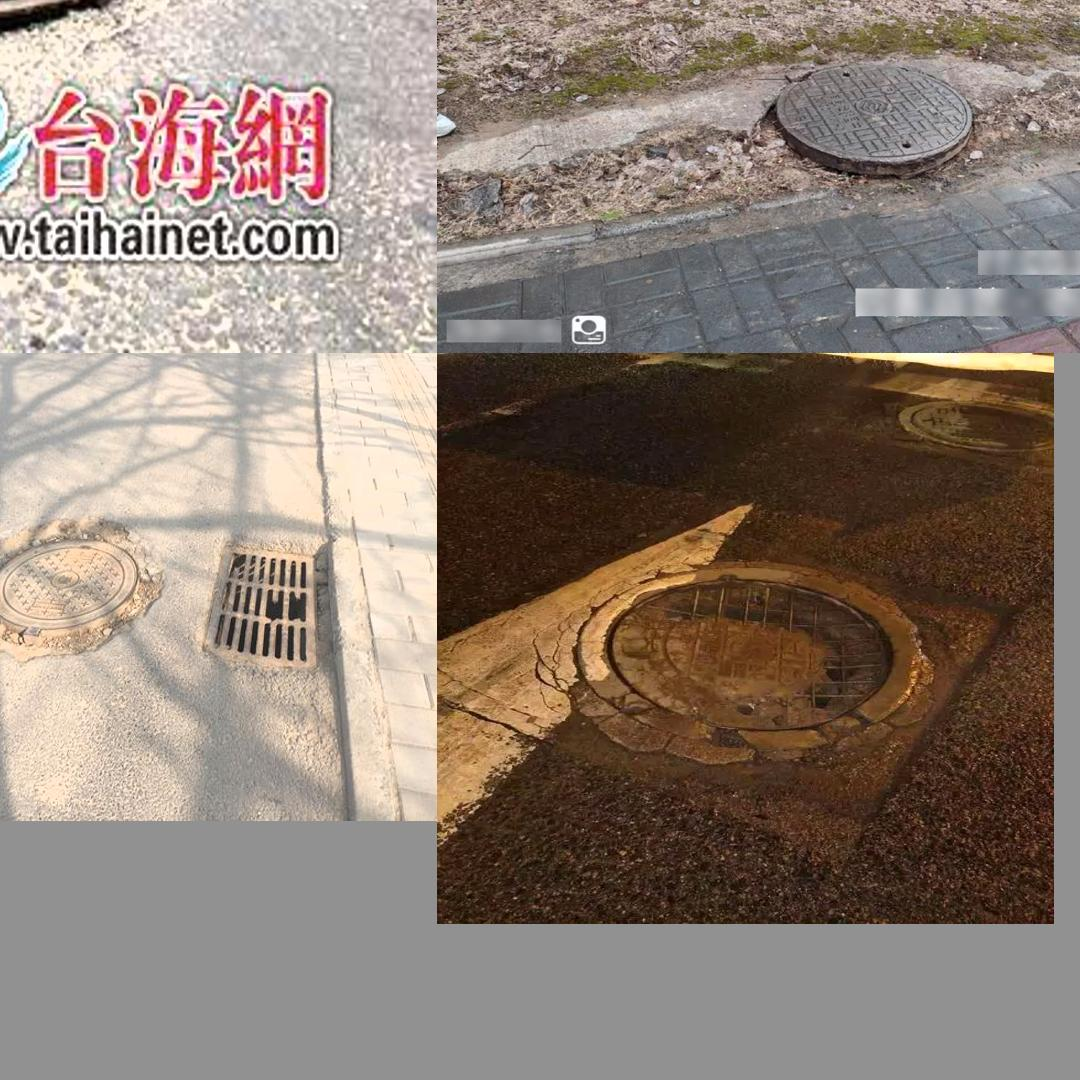circle: (481, 541, 996, 816), (0, 505, 170, 667), (766, 58, 976, 174), (0, 0, 247, 86)
